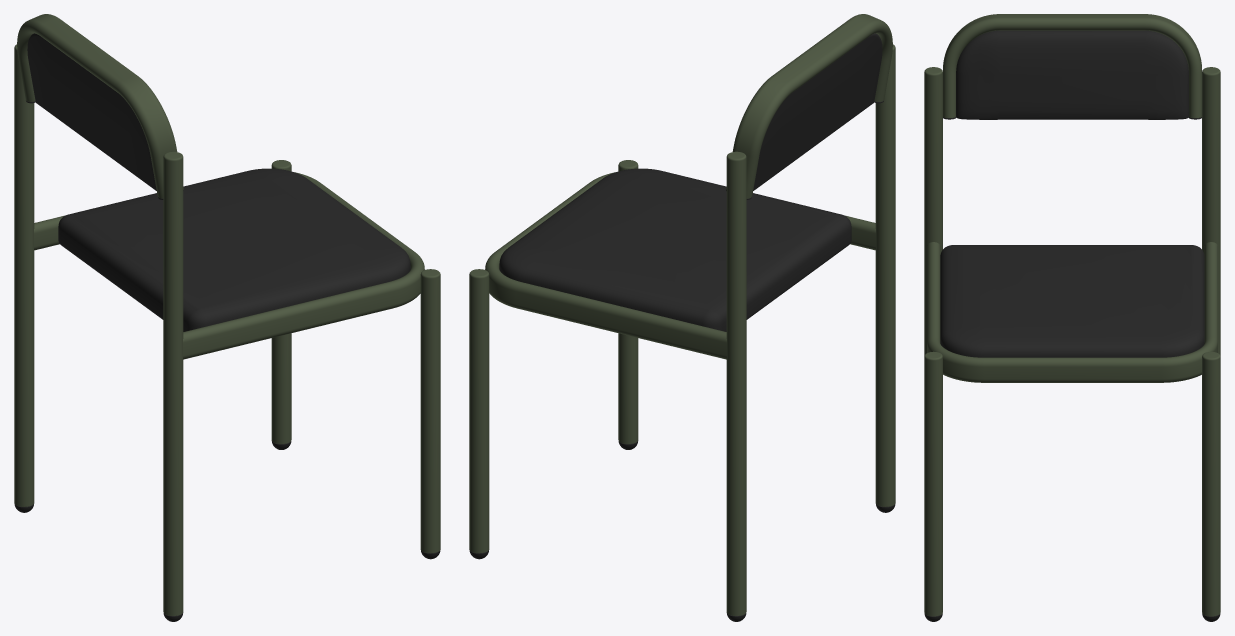
Rendered from chair-noname.glb.
3 renders of one model, left to right at view 1: azimuth 30°, elevation 25°; view 2: azimuth 150°, elevation 25°; view 3: azimuth 270°, elevation 25°, orthographic. The views are drawn at different scales.
Visible parts, largest first — view 1: rb_chair_noname; view 2: rb_chair_noname; view 3: rb_chair_noname.
Boxes of the visible parts, x1,y1,x2,y2 form: rb_chair_noname: [14, 14, 440, 621]; rb_chair_noname: [469, 14, 895, 621]; rb_chair_noname: [924, 14, 1220, 621].
Bounding box in the file's own units: 0.4755 × 0.8087 × 0.448.
